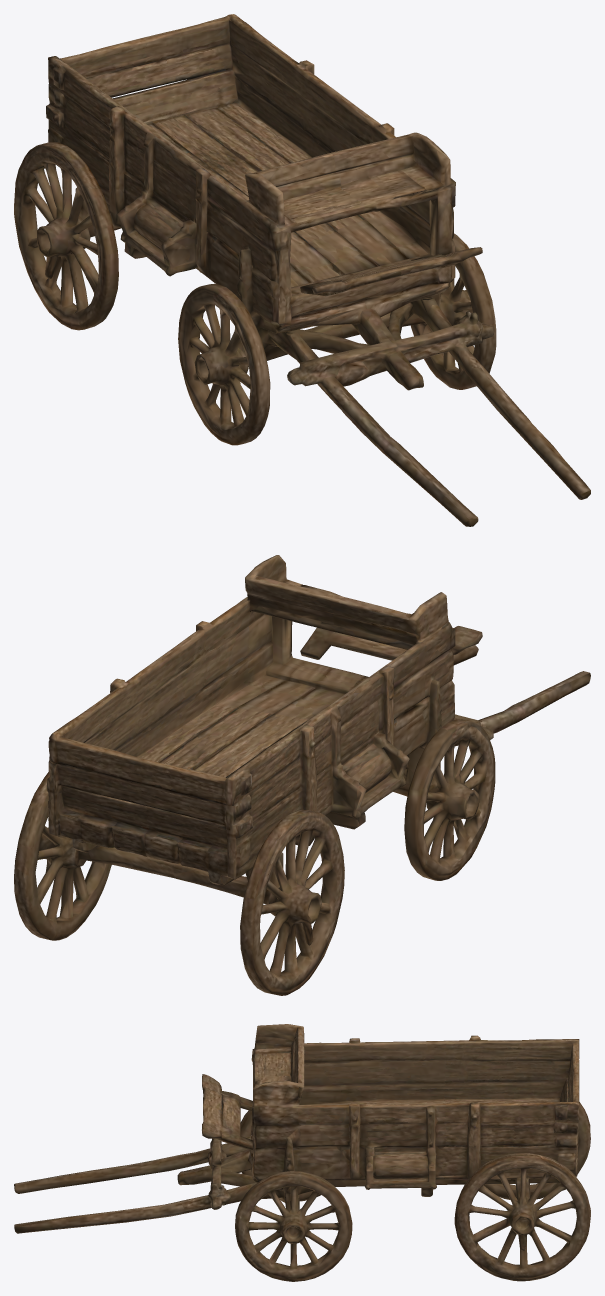
Rendered from Wooden_Wagon.glb.
3 renders of one model, top to bottom at view 1: azimuth 30°, elevation 25°; view 2: azimuth 150°, elevation 25°; view 3: azimuth 270°, elevation 25°, orthographic. The views are drawn at different scales.
Visible parts, largest first — view 1: tripo_node_7470526f-708d-4740-b397-8d67dbb2f414; view 2: tripo_node_7470526f-708d-4740-b397-8d67dbb2f414; view 3: tripo_node_7470526f-708d-4740-b397-8d67dbb2f414.
Part boxes in pixels (x1,y1,x2,y2): tripo_node_7470526f-708d-4740-b397-8d67dbb2f414: [14, 14, 590, 526]; tripo_node_7470526f-708d-4740-b397-8d67dbb2f414: [14, 555, 590, 995]; tripo_node_7470526f-708d-4740-b397-8d67dbb2f414: [14, 1024, 590, 1281].
Bounding box in the file's own units: 0.3858 × 0.3513 × 0.9796.
Materials: 1 (1 with a texture image).
